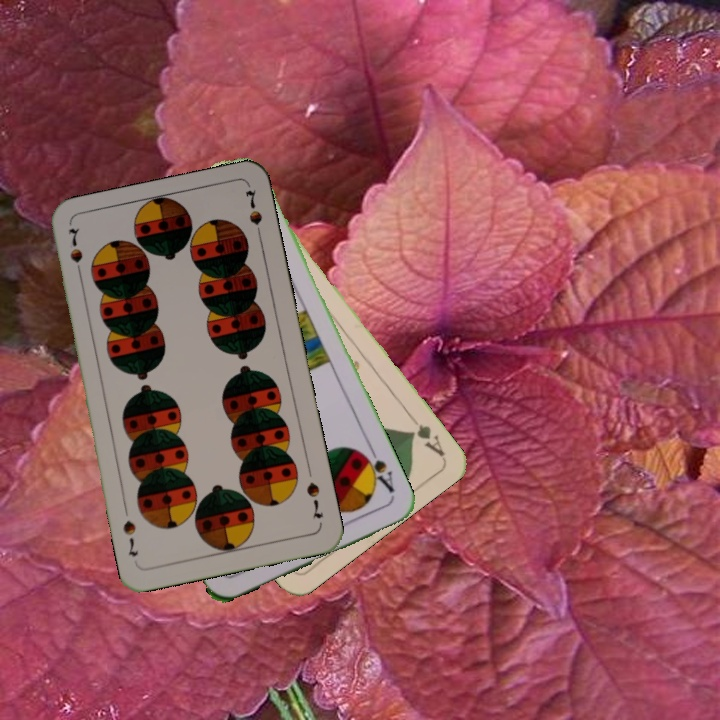GA: (404, 410, 448, 460)
S7: (65, 224, 86, 282), (302, 478, 326, 522)
SA: (356, 442, 397, 496)
